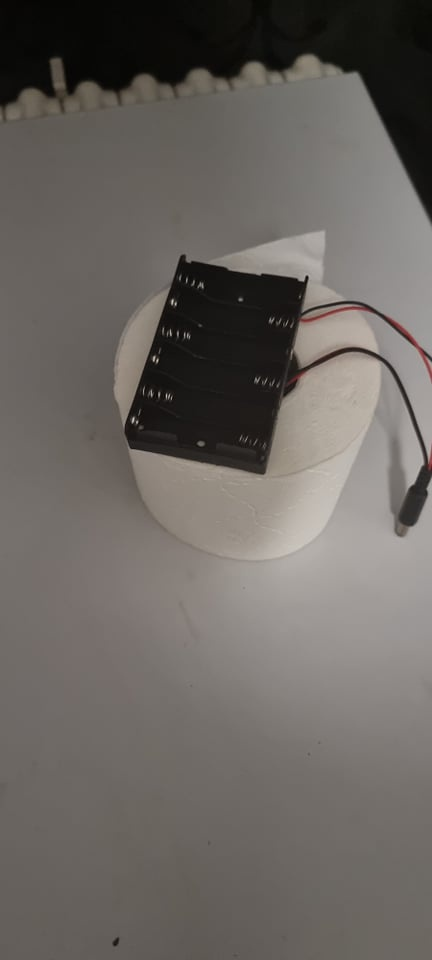BATTERY BOX: (116, 254, 312, 479)
